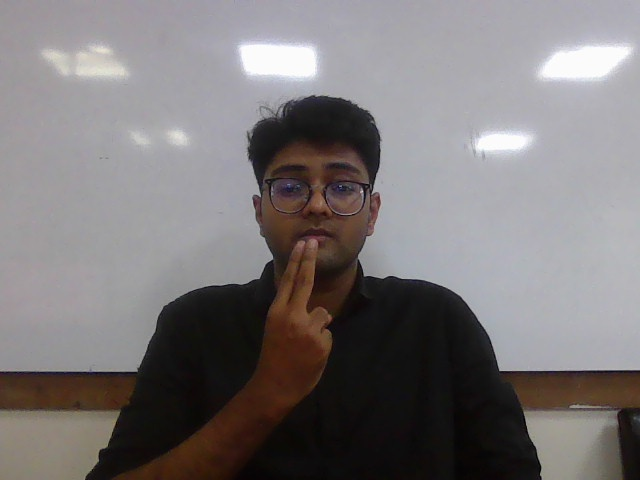Bak: (254, 238, 334, 406)
